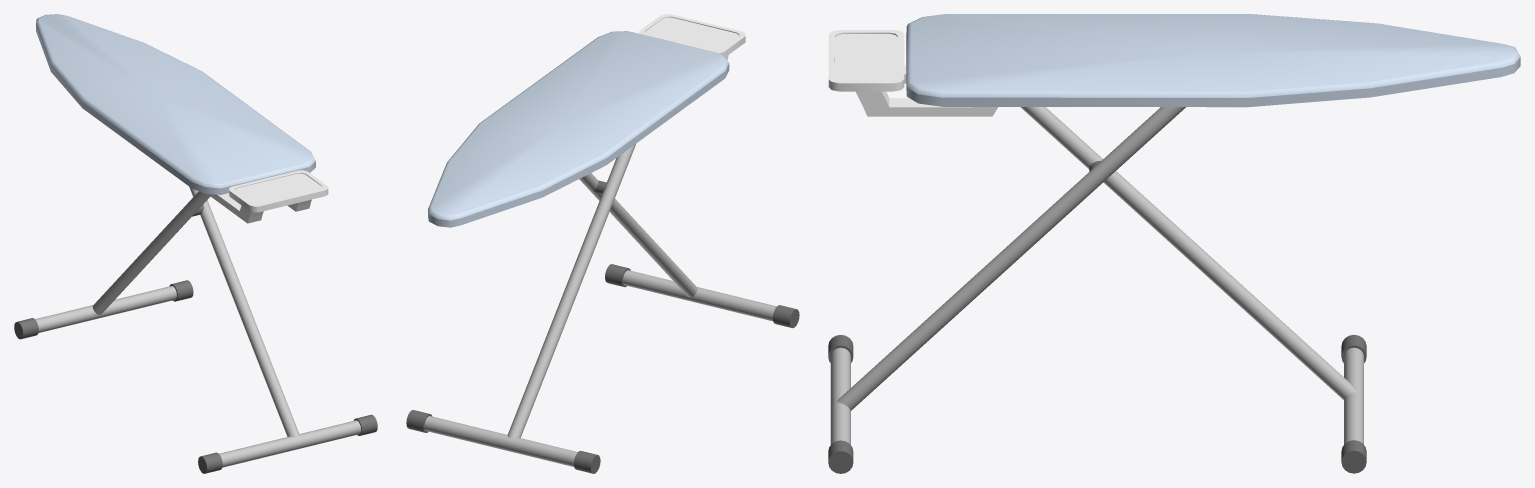
3 views of the same model, side by side, from view 1: azimuth 30°, elevation 25°; view 2: azimuth 150°, elevation 25°; view 3: azimuth 270°, elevation 25° (orthographic). The views are drawn at different scales.
Parts seen in each view (by area): view 1: cube; view 2: cube; view 3: cube.
Boxes of the visible parts, bbox=[...] form: cube: bbox=[14, 14, 377, 473]; cube: bbox=[406, 14, 799, 473]; cube: bbox=[828, 14, 1520, 473].
Size of the model in its own units: 738 by 1077 by 1858.
